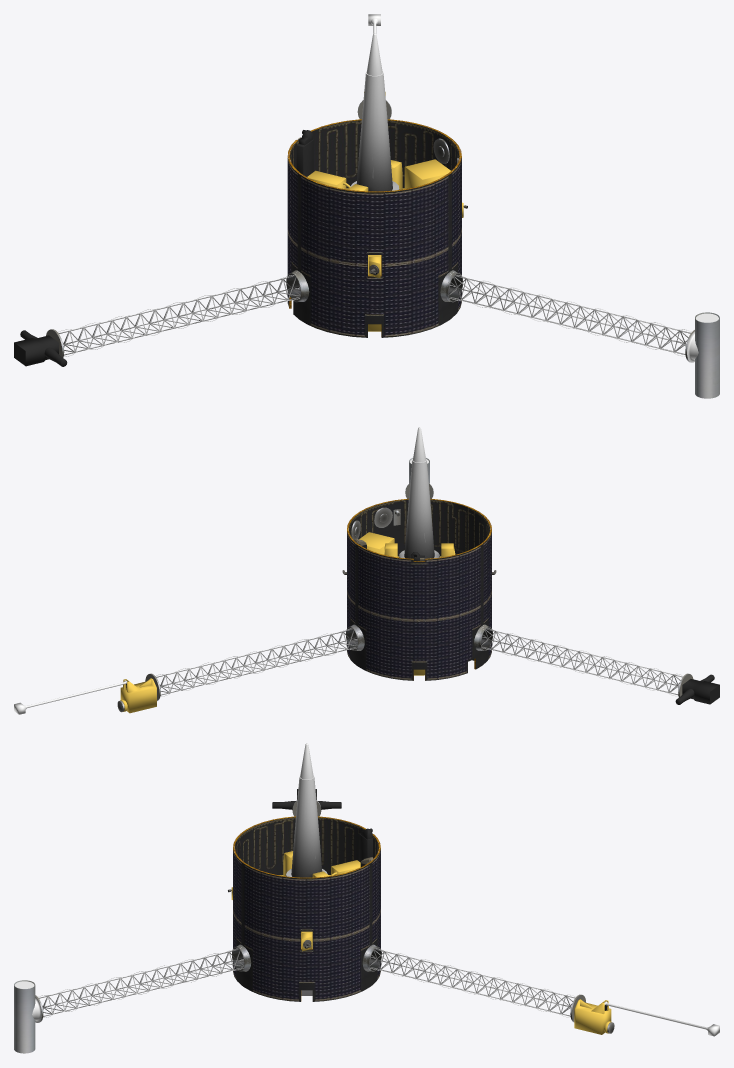
File: lunar-prospector.glb
3 views of the same model, one above another, from view 1: azimuth 30°, elevation 25°; view 2: azimuth 150°, elevation 25°; view 3: azimuth 270°, elevation 25° (orthographic). The views are drawn at different scales.
Visible parts, largest first — view 1: shiny_panel, AO, tex_01, foil_gold, krinkle, foil_silver; view 2: shiny_panel, AO, tex_01, foil_gold, foil_silver, krinkle; view 3: shiny_panel, AO, tex_01, foil_gold, foil_silver, krinkle.
Boxes of the visible parts, x1=… form: shiny_panel: x1=287, y1=157, x2=461, y2=337; AO: x1=58, y1=33, x2=690, y2=355; tex_01: x1=46, y1=100, x2=719, y2=398; foil_gold: x1=307, y1=92, x2=463, y2=331; krinkle: x1=14, y1=130, x2=313, y2=366; foil_silver: x1=58, y1=14, x2=718, y2=362; shiny_panel: x1=347, y1=531, x2=491, y2=680; AO: x1=156, y1=427, x2=682, y2=695; tex_01: x1=117, y1=458, x2=693, y2=712; foil_gold: x1=120, y1=532, x2=455, y2=713; foil_silver: x1=14, y1=459, x2=683, y2=714; krinkle: x1=411, y1=552, x2=719, y2=704; shiny_panel: x1=233, y1=848, x2=380, y2=1001; AO: x1=39, y1=743, x2=574, y2=1016; tex_01: x1=14, y1=800, x2=614, y2=1053; foil_gold: x1=231, y1=851, x2=611, y2=1034; foil_silver: x1=15, y1=948, x2=719, y2=1036; krinkle: x1=272, y1=789, x2=372, y2=862.
Bounding box in the file's own units: 5.58 × 2.47 × 6.69.
6 materials, 3 textured.
